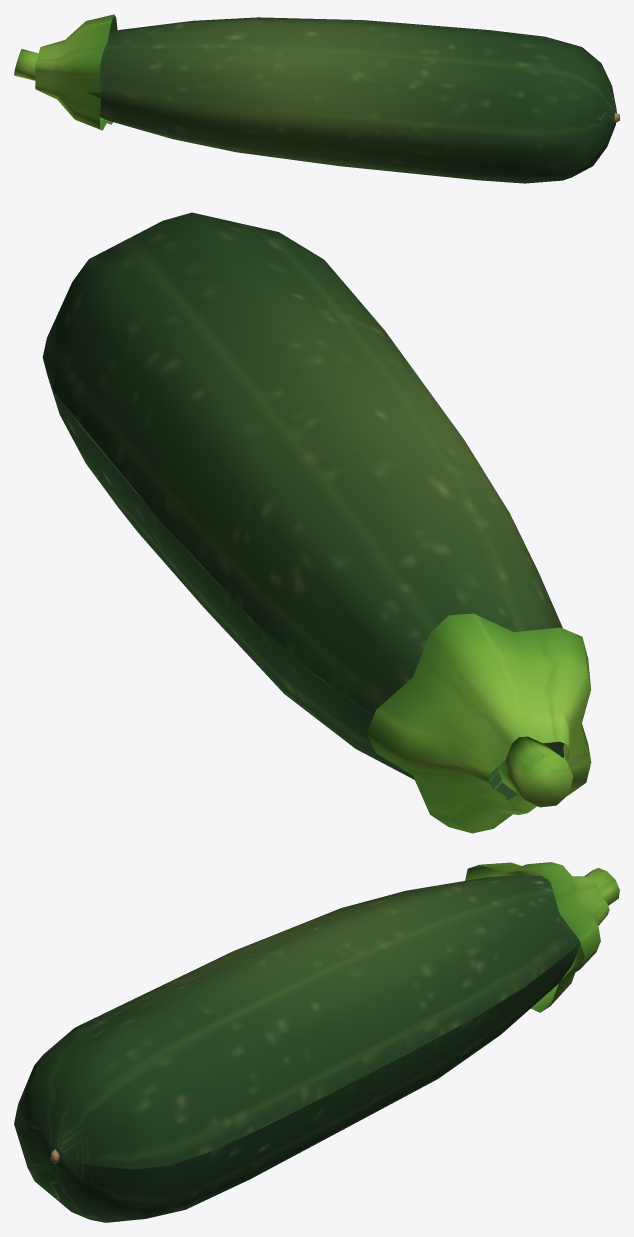
File: NP_Zucchini_Harvest_LOD1.fbx
3 renders of one model, top to bottom at view 1: azimuth 30°, elevation 25°; view 2: azimuth 150°, elevation 25°; view 3: azimuth 270°, elevation 25°, orthographic. The views are drawn at different scales.
Parts seen in each view (by area): view 1: NP_Zucchini_Harvest; view 2: NP_Zucchini_Harvest; view 3: NP_Zucchini_Harvest.
Part boxes in pixels (x1,y1,x2,y2): NP_Zucchini_Harvest: (14,14,619,183); NP_Zucchini_Harvest: (42,212,591,833); NP_Zucchini_Harvest: (14,862,619,1222).
Size of the model in its own units: 48.18 by 15.08 by 43.56.
